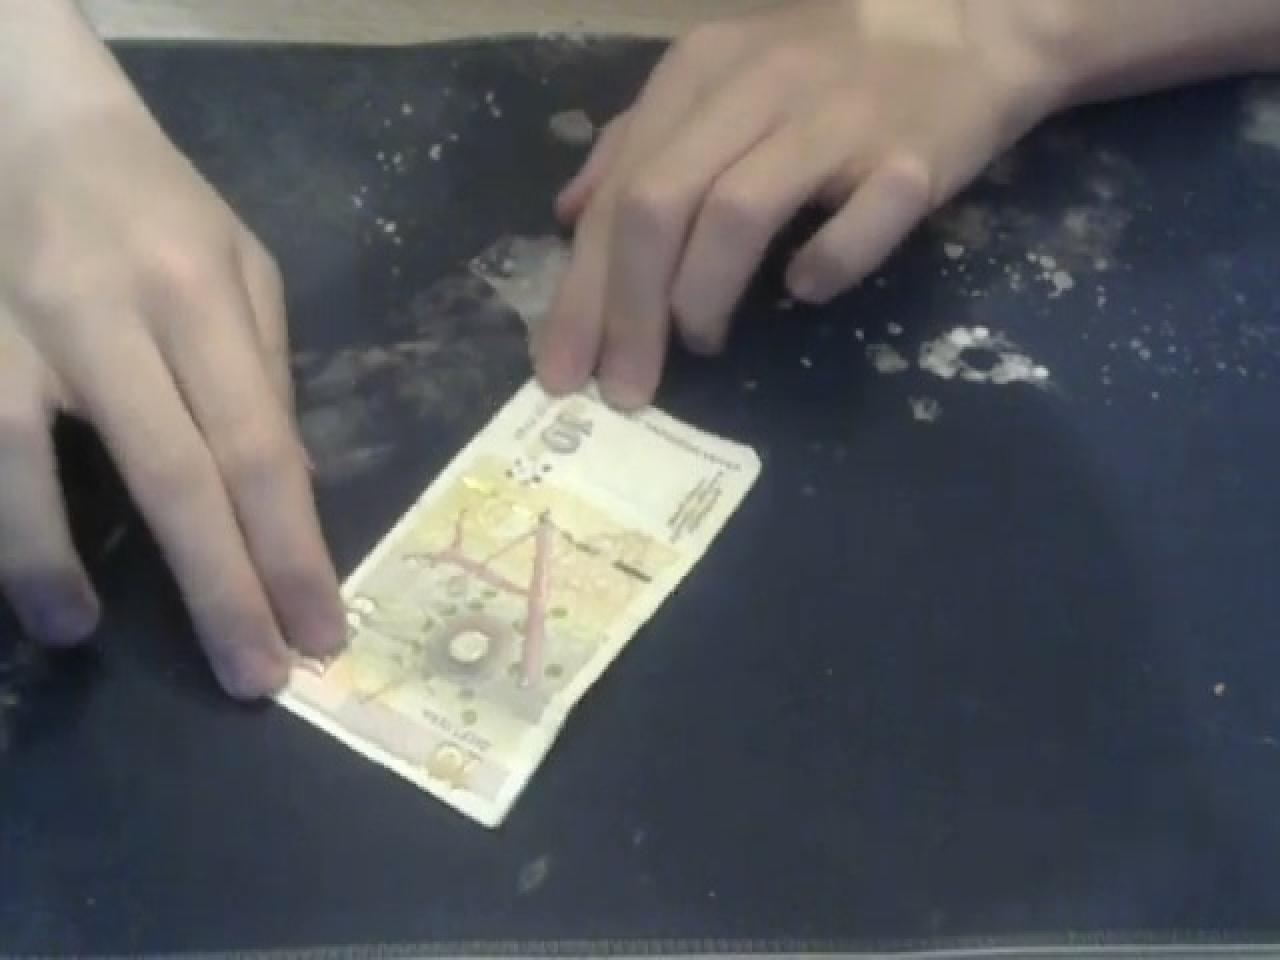10leva: (525, 405, 592, 481)
